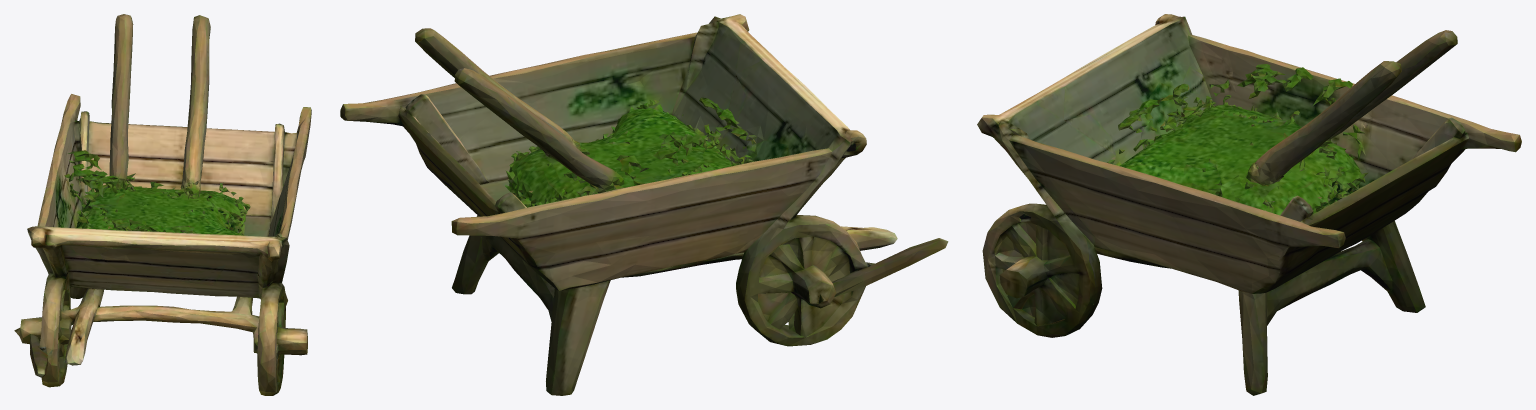
Rendered from prop_wheelbarrow_01.glb.
3 views of the same model, side by side, from view 1: azimuth 30°, elevation 25°; view 2: azimuth 150°, elevation 25°; view 3: azimuth 270°, elevation 25° (orthographic). The views are drawn at different scales.
Parts seen in each view (by area): view 1: geometry_0; view 2: geometry_0; view 3: geometry_0.
Part boxes in pixels (x1,y1,x2,y2): geometry_0: (14, 14, 311, 395); geometry_0: (340, 14, 948, 395); geometry_0: (977, 14, 1521, 395).
Bounding box in the file's own units: 0.9963 × 0.6425 × 1.
Materials: 1 (1 with a texture image).
